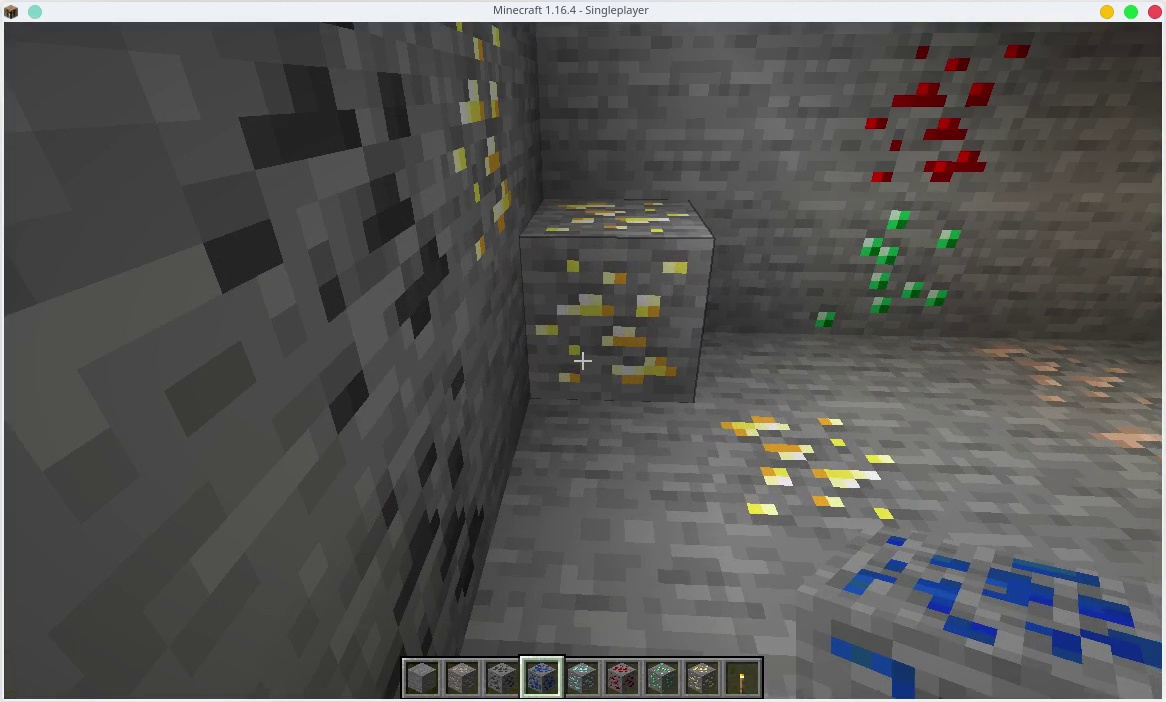gold: (530, 201, 711, 411), (709, 414, 893, 532), (444, 20, 515, 230), (687, 663, 719, 691)
